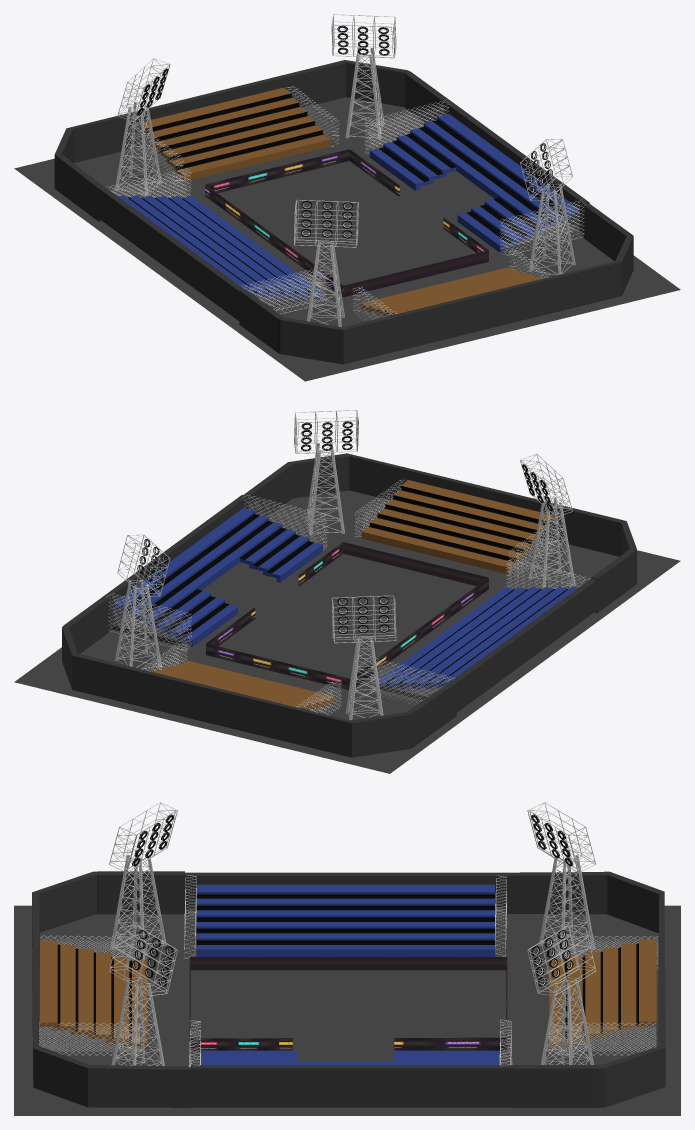
File: estadio.glb
3 renders of one model, top to bottom at view 1: azimuth 30°, elevation 25°; view 2: azimuth 150°, elevation 25°; view 3: azimuth 270°, elevation 25°, orthographic. The views are drawn at different scales.
Parts seen in each view (by area): view 1: Cube_Material.016_0, Cube.007_Material.015_0, Cube.001_Material.030_0, Cube.016_Material.033_0, Cube.001_Material.031_0, Cube.003__0, Pano_Material.017_0, Fener_Material.035_0, Fener_Material.036_0, Fener_Material.038_0, Fener.002_Material.049_0, Fener.002_Material.047_0 (+5 smaller); view 2: Cube_Material.016_0, Cube.007_Material.015_0, Cube.001_Material.030_0, Cube.016_Material.033_0, Cube.001_Material.031_0, Cube.003__0, Pano_Material.017_0, Fener_Material.035_0, Fener_Material.038_0, Fener_Material.036_0, Fener.002_Material.048_0, Fener.003_Material.006_0 (+5 smaller); view 3: Cube_Material.016_0, Cube.007_Material.015_0, Cube.001_Material.030_0, Cube.016_Material.033_0, Cube.001_Material.031_0, Cube.003__0, Pano_Material.017_0, Fener_Material.035_0, Fener_Material.036_0, Fener_Material.038_0, Fener.002_Material.049_0, Fener.003_Material.010_0 (+6 smaller).
Boxes of the visible parts, bbox=[...] form: Cube_Material.016_0: bbox=[14, 97, 680, 381]; Cube.007_Material.015_0: bbox=[54, 60, 633, 364]; Cube.001_Material.030_0: bbox=[118, 114, 579, 299]; Cube.016_Material.033_0: bbox=[137, 87, 541, 316]; Cube.001_Material.031_0: bbox=[128, 93, 563, 314]; Cube.003__0: bbox=[106, 86, 585, 320]; Pano_Material.017_0: bbox=[205, 149, 488, 297]; Fener_Material.035_0: bbox=[307, 184, 575, 326]; Fener_Material.036_0: bbox=[294, 139, 572, 247]; Fener_Material.038_0: bbox=[137, 25, 552, 238]; Fener.002_Material.049_0: bbox=[115, 101, 161, 196]; Fener.002_Material.047_0: bbox=[117, 104, 159, 194]; Cube_Material.016_0: bbox=[14, 490, 680, 773]; Cube.007_Material.015_0: bbox=[62, 453, 636, 757]; Cube.001_Material.030_0: bbox=[113, 508, 577, 689]; Cube.016_Material.033_0: bbox=[153, 480, 554, 710]; Cube.001_Material.031_0: bbox=[127, 486, 568, 708]; Cube.003__0: bbox=[106, 478, 590, 715]; Pano_Material.017_0: bbox=[206, 542, 488, 689]; Fener_Material.035_0: bbox=[305, 443, 575, 588]; Fener_Material.038_0: bbox=[137, 421, 552, 633]; Fener_Material.036_0: bbox=[294, 410, 572, 517]; Fener.002_Material.048_0: bbox=[331, 595, 396, 643]; Fener.003_Material.006_0: bbox=[117, 581, 158, 669]; Cube_Material.016_0: bbox=[14, 905, 680, 1115]; Cube.007_Material.015_0: bbox=[32, 871, 665, 1107]; Cube.001_Material.030_0: bbox=[196, 884, 499, 1065]; Cube.016_Material.033_0: bbox=[40, 939, 656, 1050]; Cube.001_Material.031_0: bbox=[57, 894, 638, 1042]; Cube.003__0: bbox=[39, 874, 658, 1067]; Pano_Material.017_0: bbox=[189, 957, 507, 1051]; Fener_Material.035_0: bbox=[110, 849, 166, 1065]; Fener_Material.036_0: bbox=[109, 802, 177, 995]; Fener_Material.038_0: bbox=[132, 814, 573, 986]; Fener.002_Material.049_0: bbox=[538, 849, 595, 958]; Fener.003_Material.010_0: bbox=[527, 925, 595, 995].
Bounding box in the file's own units: 68.86 × 22.04 × 92.36.
22 materials, 14 textured.
